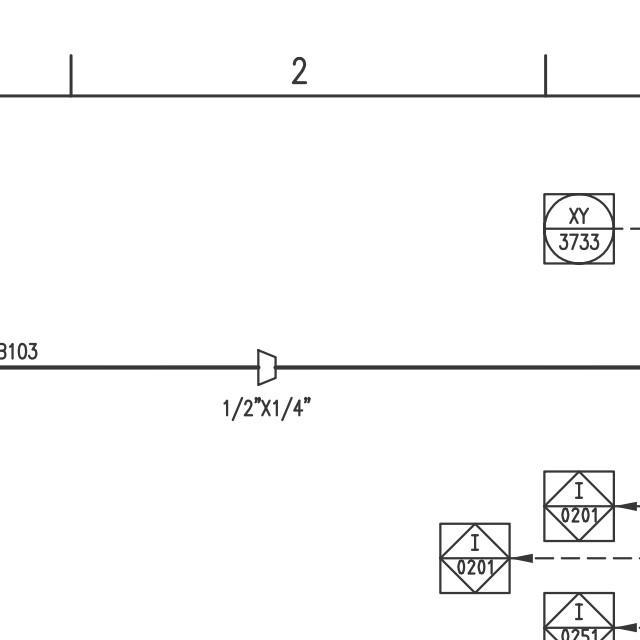SP: (252, 343, 280, 389)
